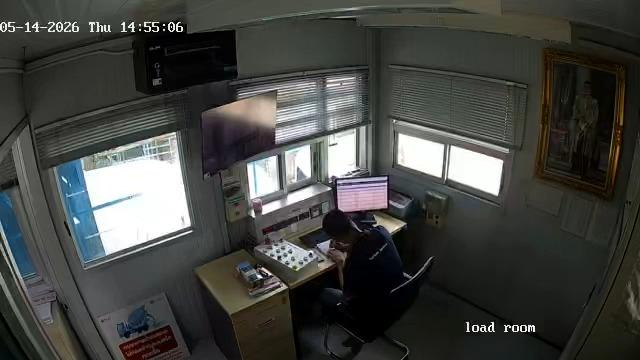Head: (321, 208, 358, 246)
People: (320, 205, 402, 292)
